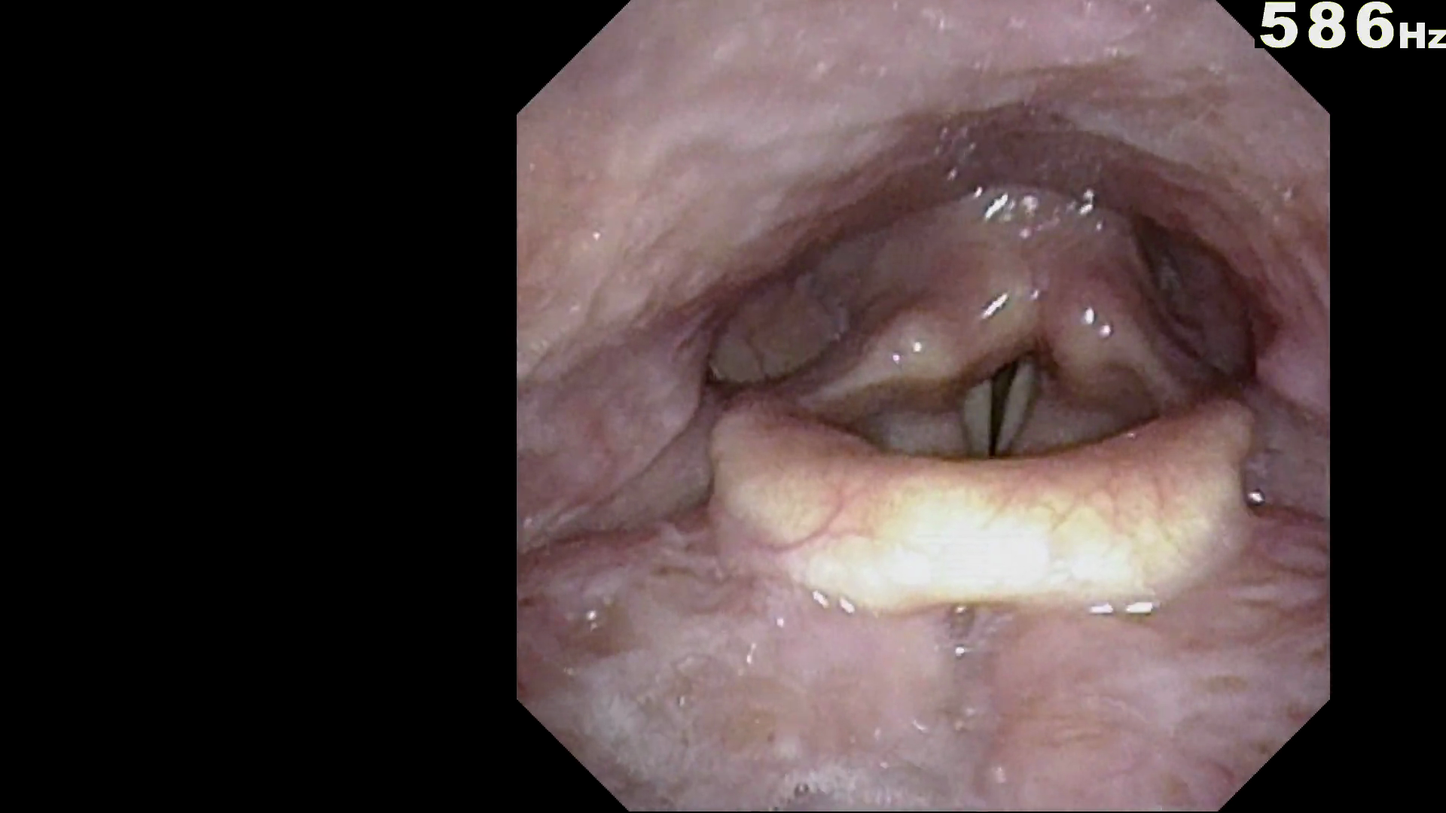epiglottis: (723, 402, 1232, 610)
trachea: (918, 309, 1087, 520)
